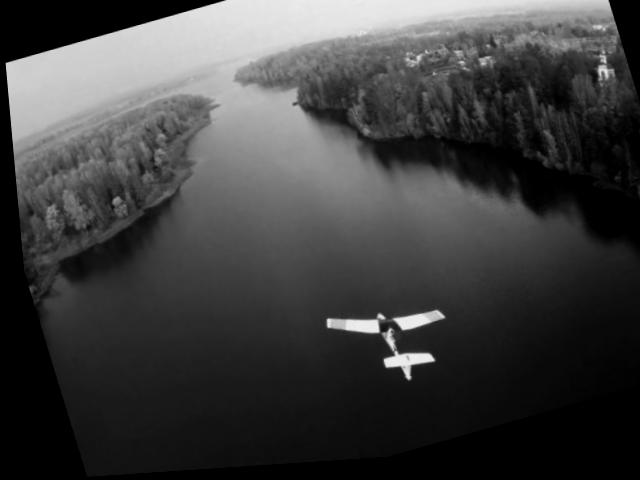hedef: (311, 281, 466, 411)
